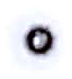cancer: (6, 10, 68, 74)
